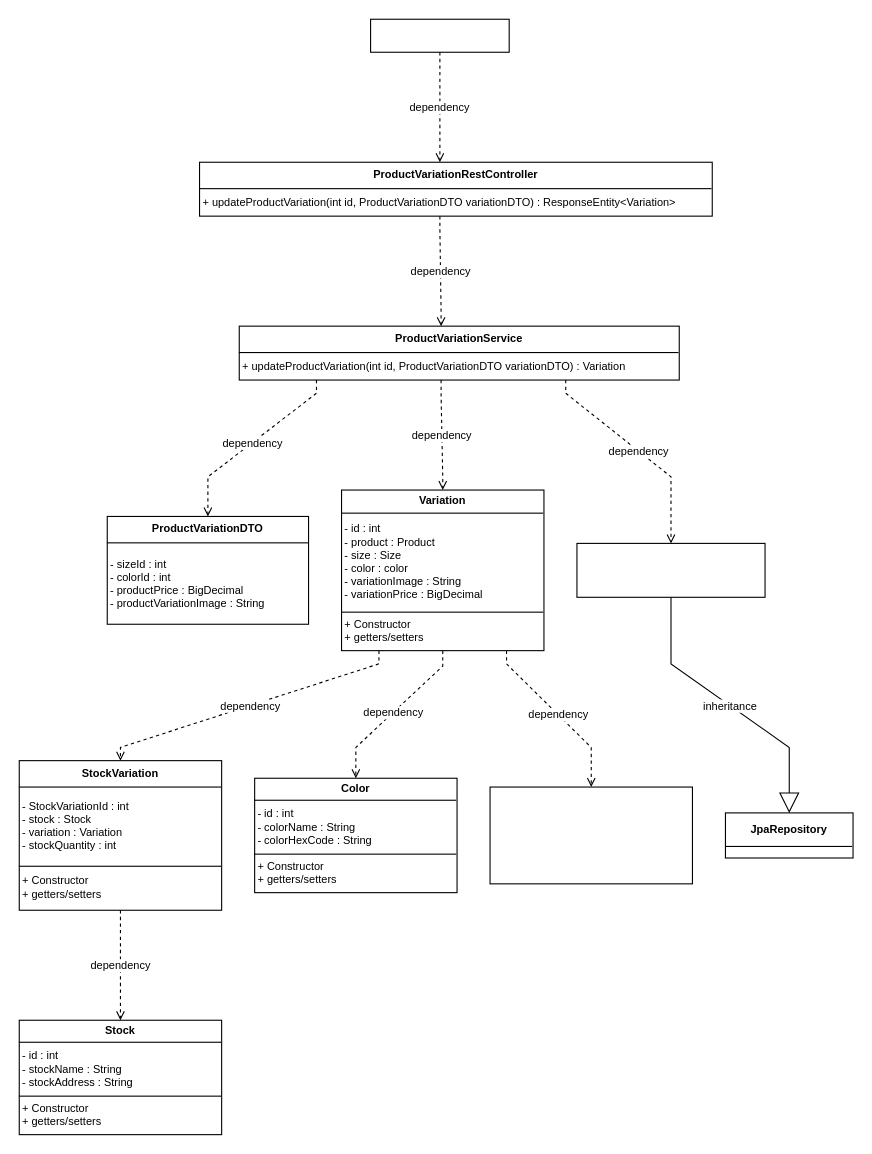
Some shapes in this 872 by 1154 pixel diagram are drawn without their labels. Each missing label, with the centre of its shape:
"Product Dashboard" belongs at point (439, 35).
"Size - id : int - sizeName : String + Constructor + getters/setters" belongs at point (590, 835).
"VariationRepository + findById() : variation" belongs at point (670, 569).
